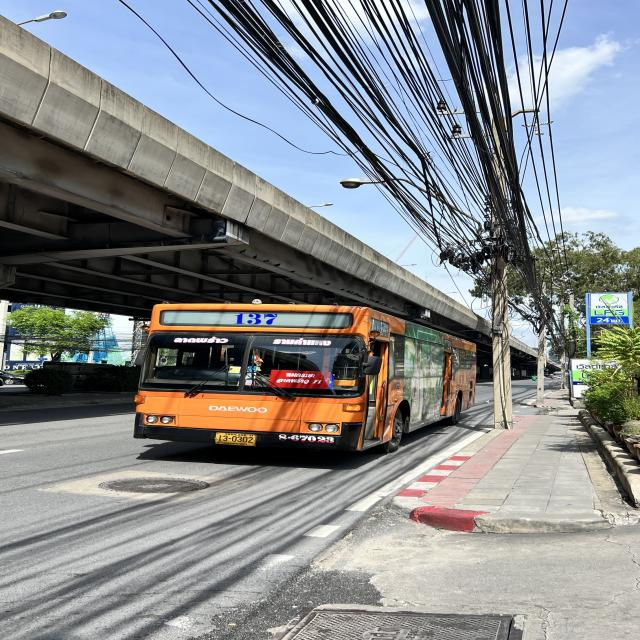BMTA-bus: (133, 304, 477, 455)
Bus Line Number: (227, 311, 284, 327)
Bus Side Number: (277, 432, 339, 445)
Destination Sign: (272, 368, 332, 390)
